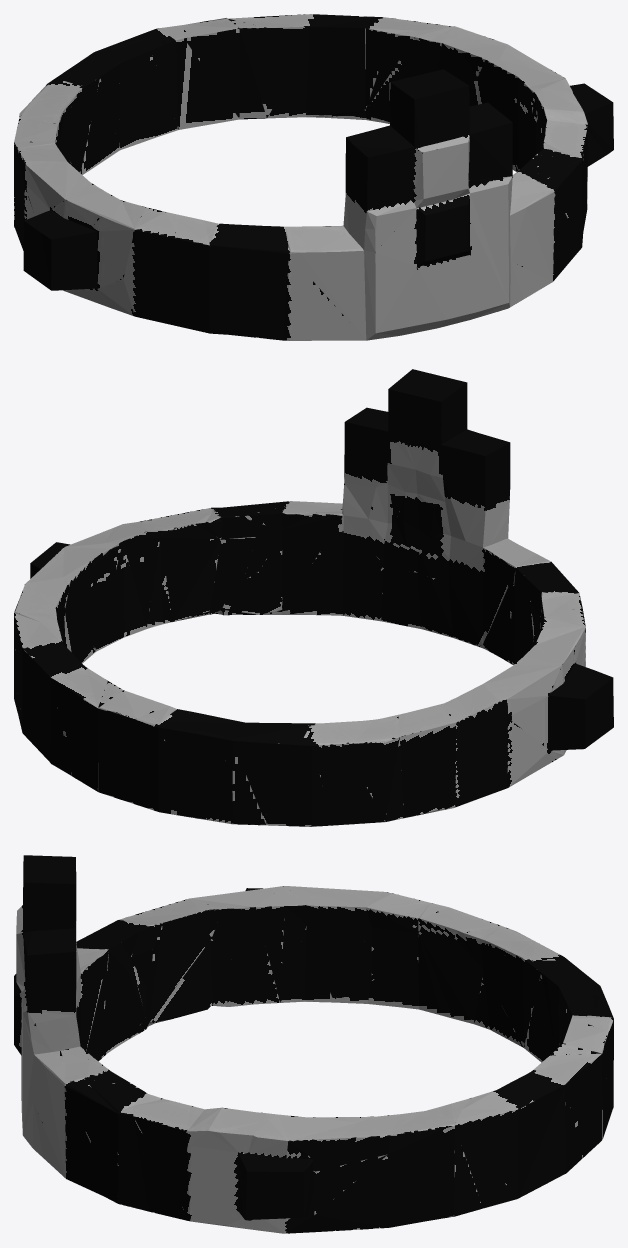
The picture shows the model from 3 angles, top to bottom: view 1: azimuth 30°, elevation 25°; view 2: azimuth 150°, elevation 25°; view 3: azimuth 270°, elevation 25°; orthographic projection. The views are drawn at different scales.
Visible parts, largest first — view 1: OBJ030; view 2: OBJ030; view 3: OBJ030.
Part boxes in pixels (<box>): OBJ030: <box>14,14,613,340</box>; OBJ030: <box>14,369,613,826</box>; OBJ030: <box>14,855,613,1233</box>.
Size of the model in its own units: 0.2323 by 0.0947 by 0.2078.
Materials: 1 (1 with a texture image).
